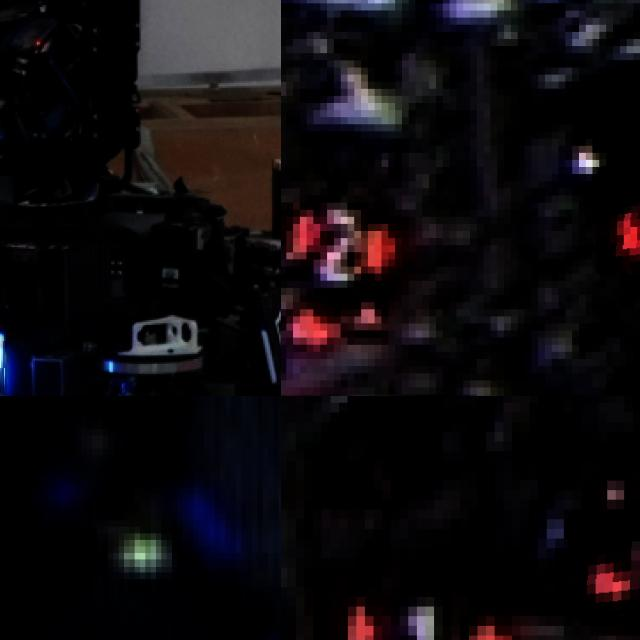R1: (317, 572, 524, 640), (568, 514, 640, 620)
R2: (281, 170, 388, 277), (596, 152, 640, 273)
